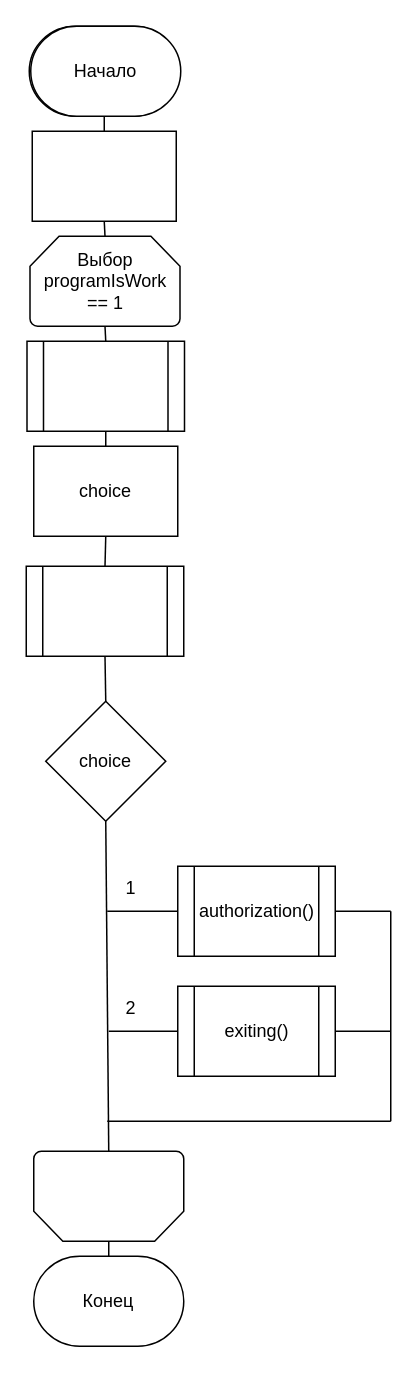
This 419x1373 diagram has some shape labels left out. The centre of each missing label's shape, as x and y in pixels:
"clearConsole" goes at [105,385].
"inputFirstNatural(2, BASICMENU)" goes at [104,610].
"programIsWork = 1" goes at [103,175].
"Выбор" goes at [108,1195].
